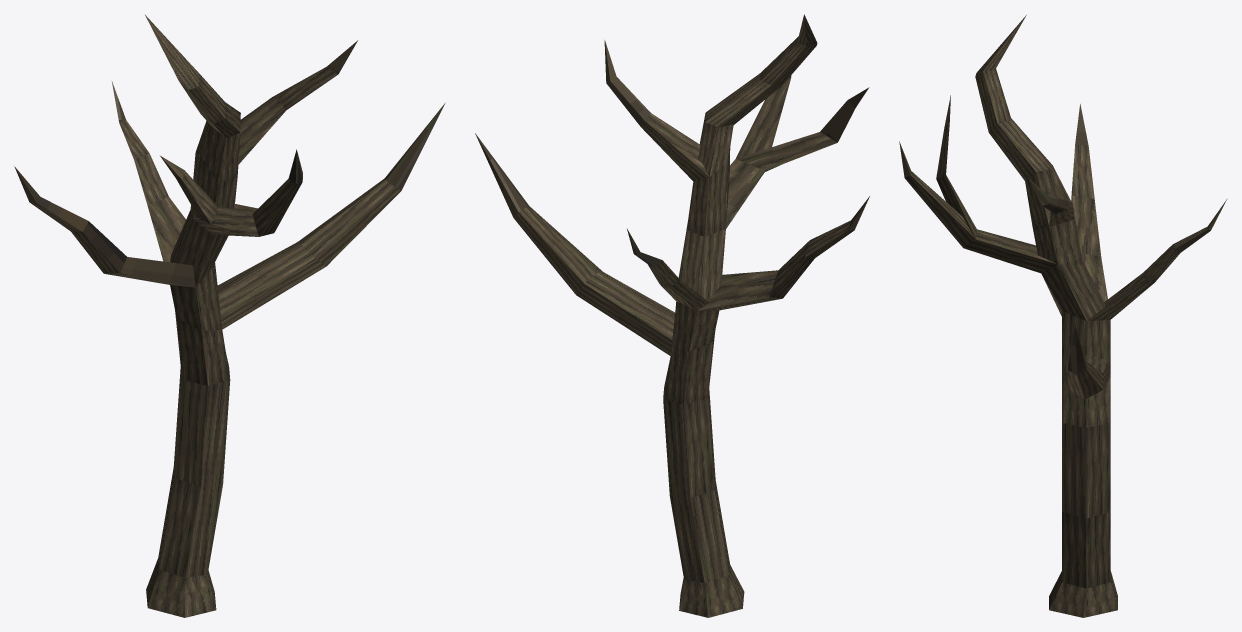
The model's file is tree.fbx.
3 renders of one model, left to right at view 1: azimuth 30°, elevation 25°; view 2: azimuth 150°, elevation 25°; view 3: azimuth 270°, elevation 25°, orthographic. The views are drawn at different scales.
Visible parts, largest first — view 1: Cube; view 2: Cube; view 3: Cube.
Boxes of the visible parts, bbox=[...] form: Cube: bbox=[14, 15, 445, 617]; Cube: bbox=[475, 14, 869, 617]; Cube: bbox=[899, 15, 1226, 617].
Bounding box in the file's own units: 1280 × 1783 × 949.
